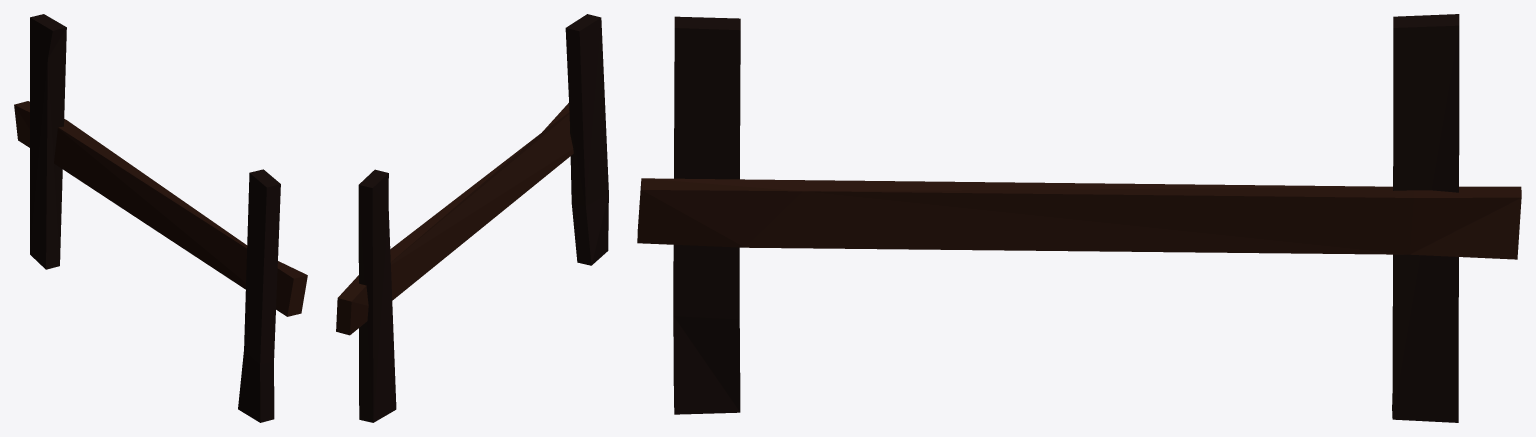
The model's file is zabor b.FBX.
3 views of the same model, side by side, from view 1: azimuth 30°, elevation 25°; view 2: azimuth 150°, elevation 25°; view 3: azimuth 270°, elevation 25° (orthographic). The views are drawn at different scales.
Visible parts, largest first — view 1: zabor b; view 2: zabor b; view 3: zabor b.
Part boxes in pixels (x1,y1,x2,y2): zabor b: [14, 14, 307, 422]; zabor b: [336, 14, 608, 422]; zabor b: [637, 14, 1521, 422].
Bounding box in the file's own units: 0.2811 × 3.15 × 1.57.
